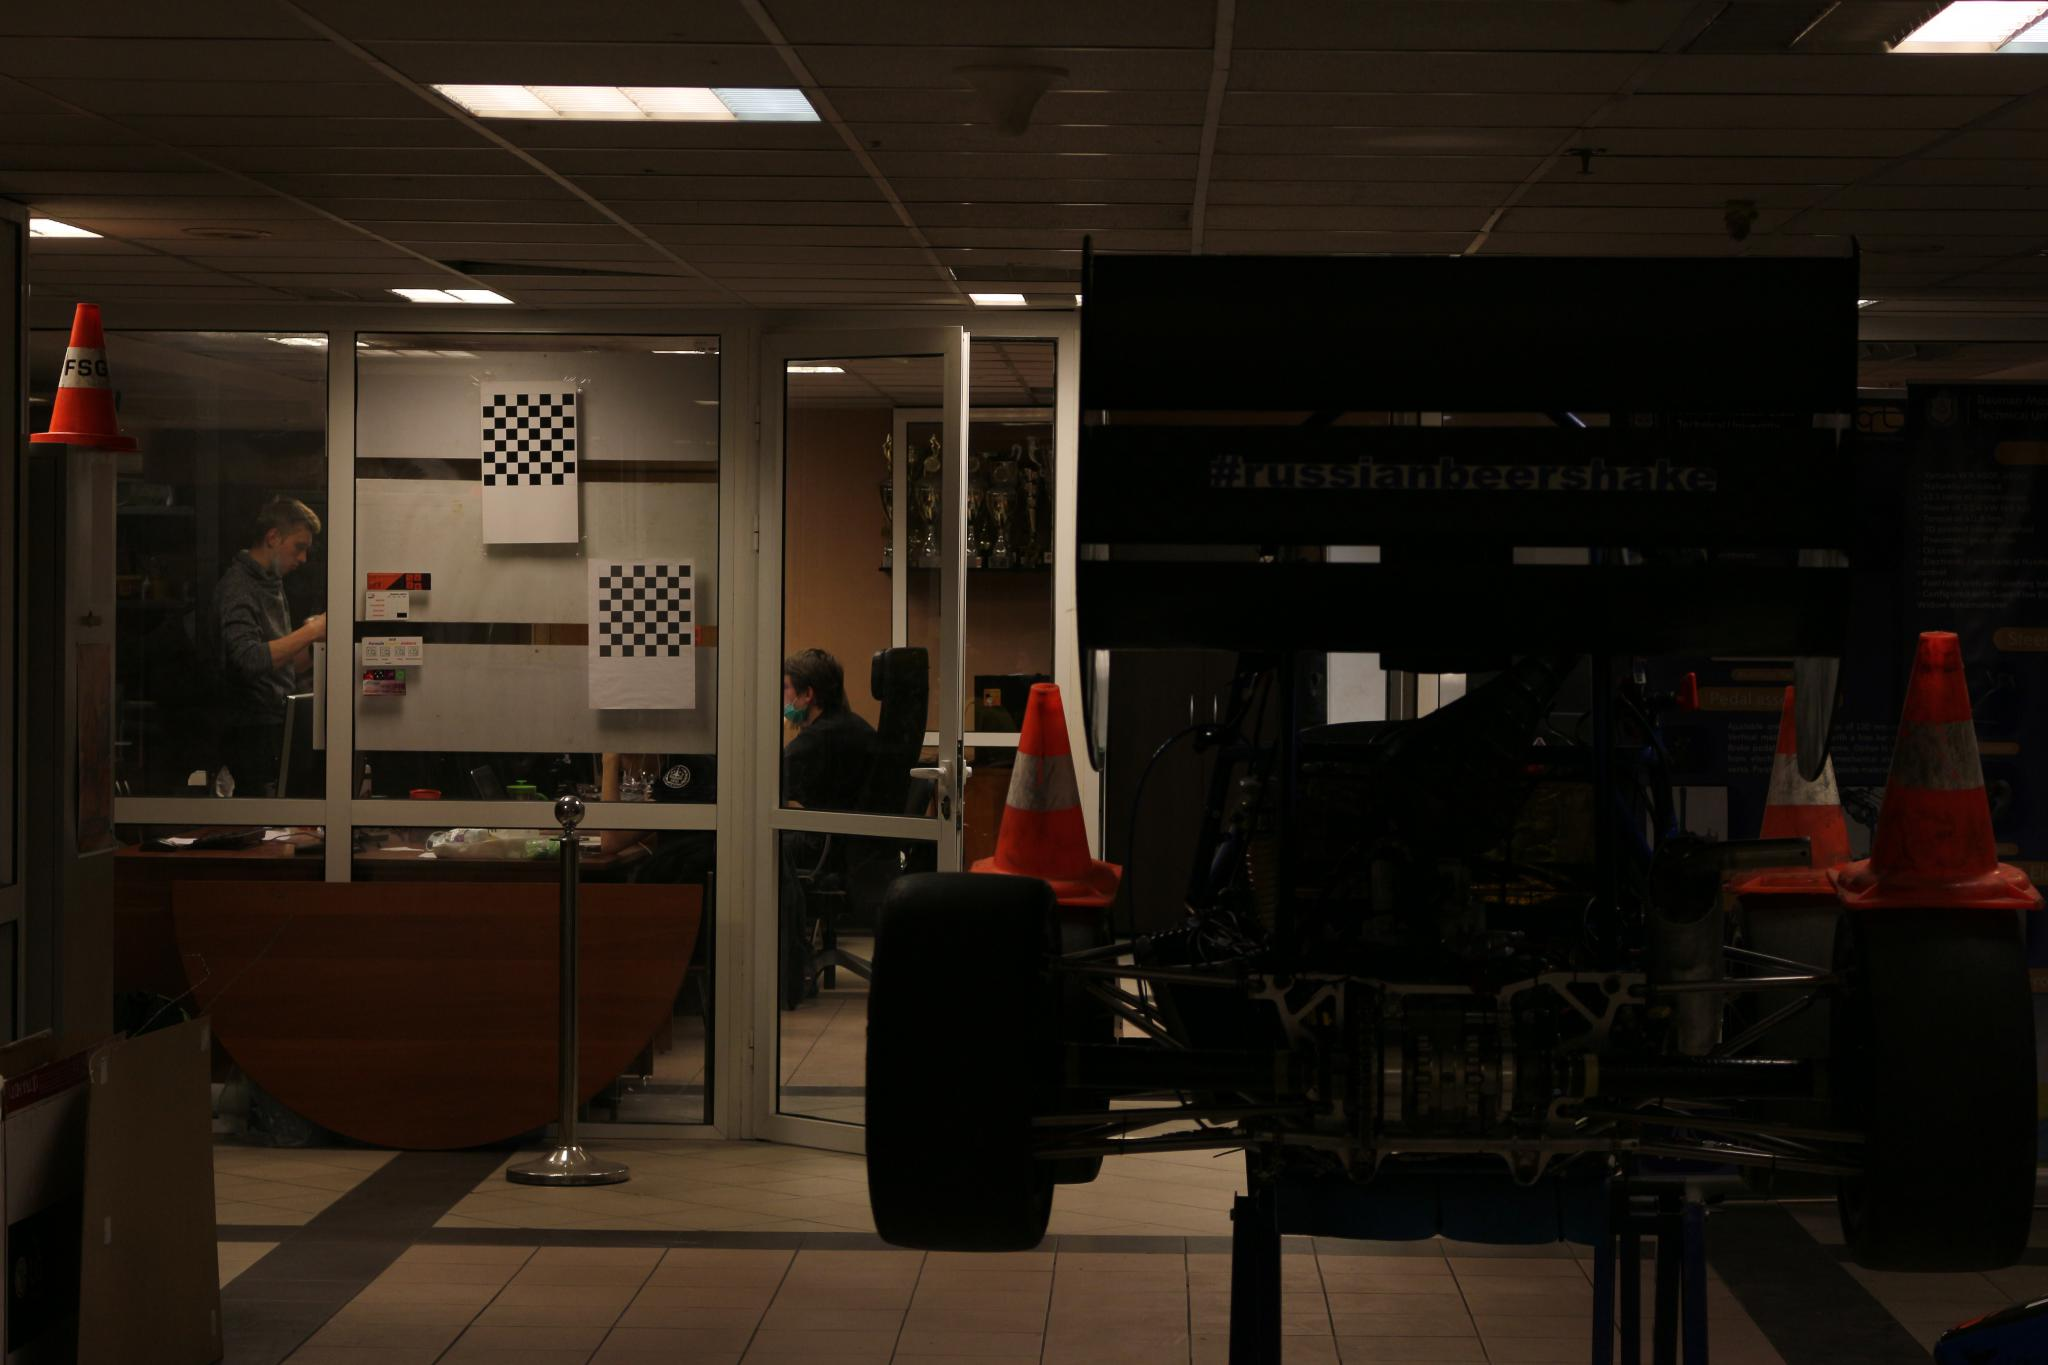Orange_Cone: (1847, 609, 2039, 922), (953, 667, 1127, 909), (1734, 664, 1871, 908), (20, 280, 140, 463)
